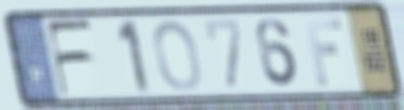1: (115, 17, 154, 97)
6: (254, 18, 300, 89)
7: (200, 17, 245, 92)
F: (44, 17, 95, 99), (301, 16, 345, 88)
O: (150, 18, 204, 94)
